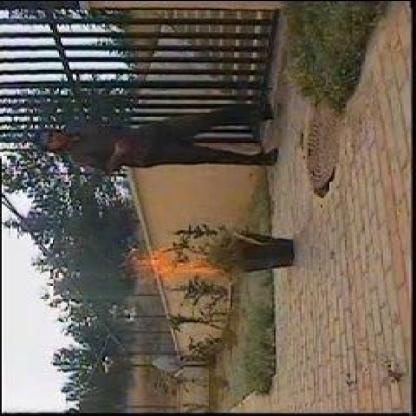-: (110, 256, 122, 276)
foggia-v2-map80-epoch100 - v1 4323: (122, 244, 218, 276)
